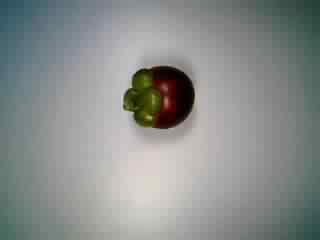mangosteen: (118, 60, 197, 133)
